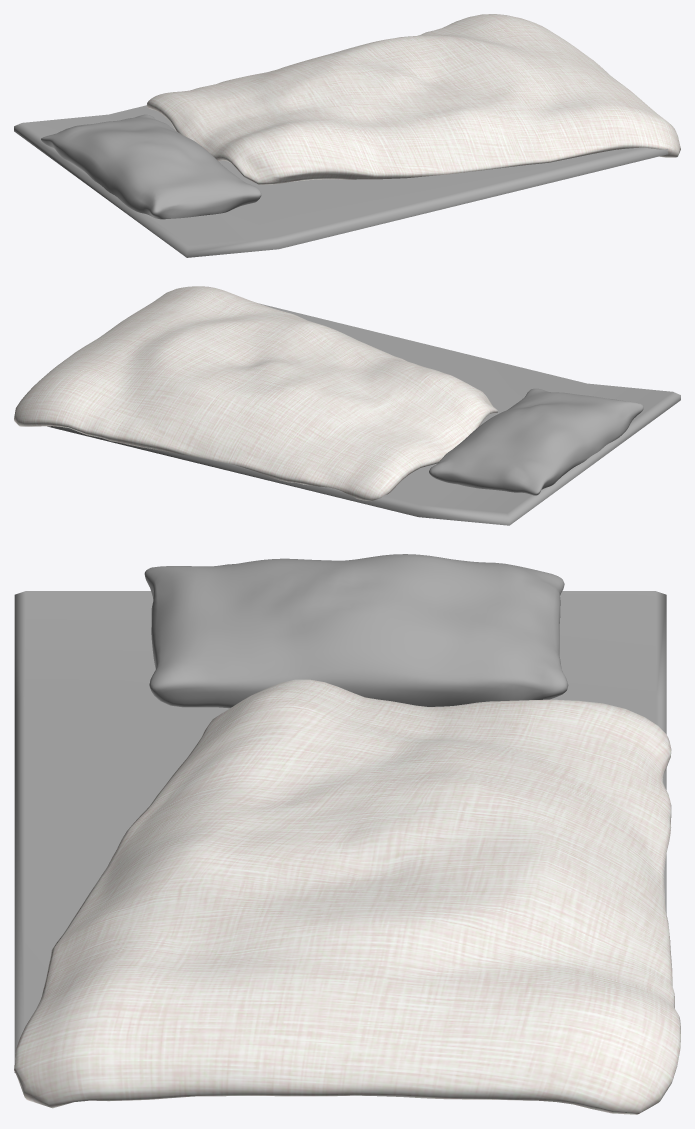
Rendered from Bedroom_MattressBedPillow_002.fbx.
3 views of the same model, one above another, from view 1: azimuth 30°, elevation 25°; view 2: azimuth 150°, elevation 25°; view 3: azimuth 270°, elevation 25° (orthographic). The views are drawn at different scales.
Visible parts, largest first — view 1: ZBrush_defualt_group, pCube40, Group10736; view 2: ZBrush_defualt_group, pCube40, Group10736; view 3: ZBrush_defualt_group, pCube40, Group10736.
Boxes of the visible parts, bbox=[...] form: ZBrush_defualt_group: bbox=[147, 14, 680, 184]; pCube40: bbox=[14, 105, 668, 257]; Group10736: bbox=[41, 114, 261, 219]; ZBrush_defualt_group: bbox=[14, 286, 497, 501]; pCube40: bbox=[47, 303, 680, 525]; Group10736: bbox=[429, 388, 643, 495]; ZBrush_defualt_group: bbox=[14, 679, 680, 1114]; pCube40: bbox=[14, 591, 666, 1072]; Group10736: bbox=[144, 554, 568, 708].
Bounding box in the file's own units: 310 × 36.1 × 184.
